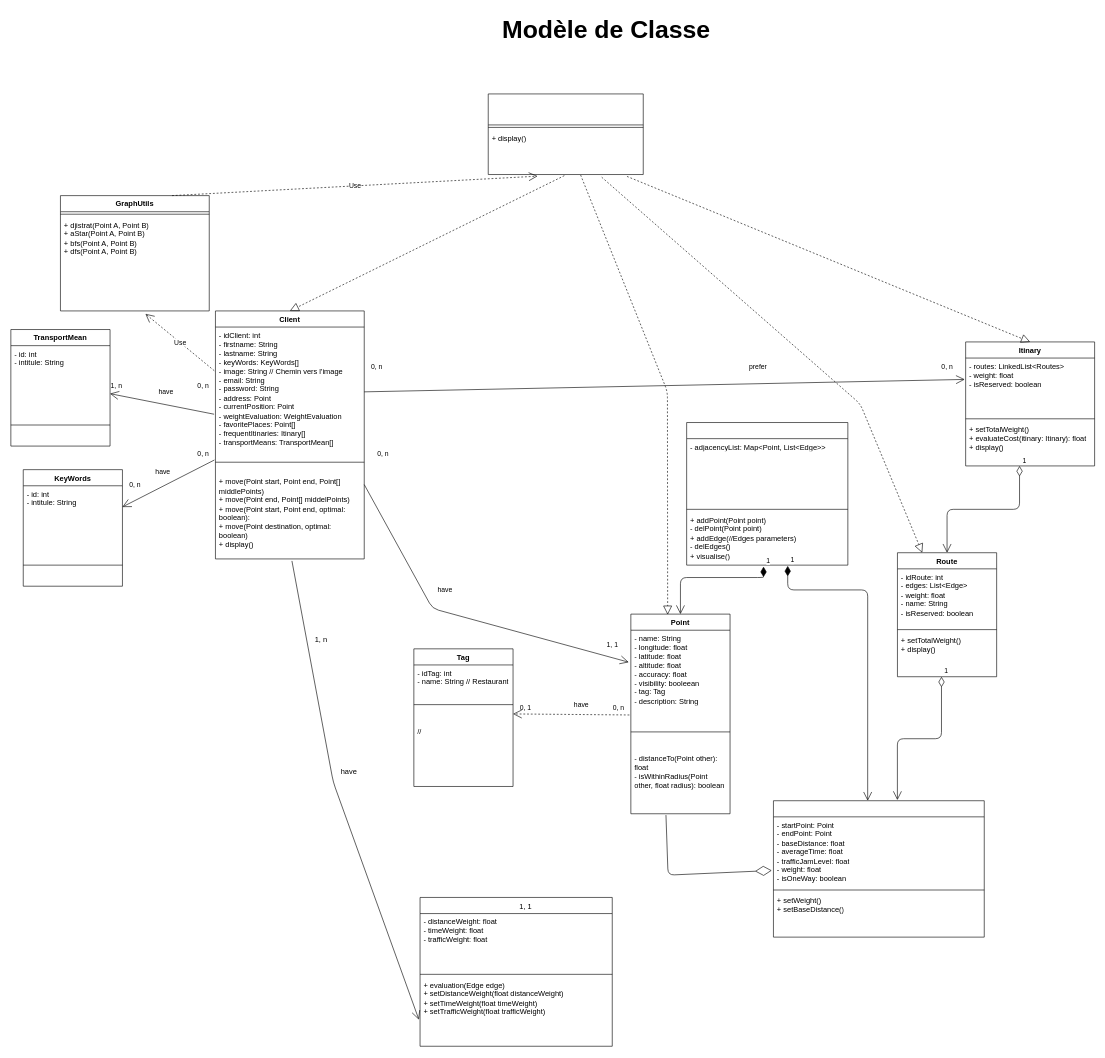
Some shapes in this 1105 by 1058 pixel diagram are drawn without their labels. Here are the shapes that lost their labels. From the top down, the box of each, then its label:
(488, 93, 643, 175): <<interface>> Displayable
(686, 422, 848, 565): Graph
(773, 800, 984, 937): Edge
(419, 897, 612, 1046): WeightEvaluation
